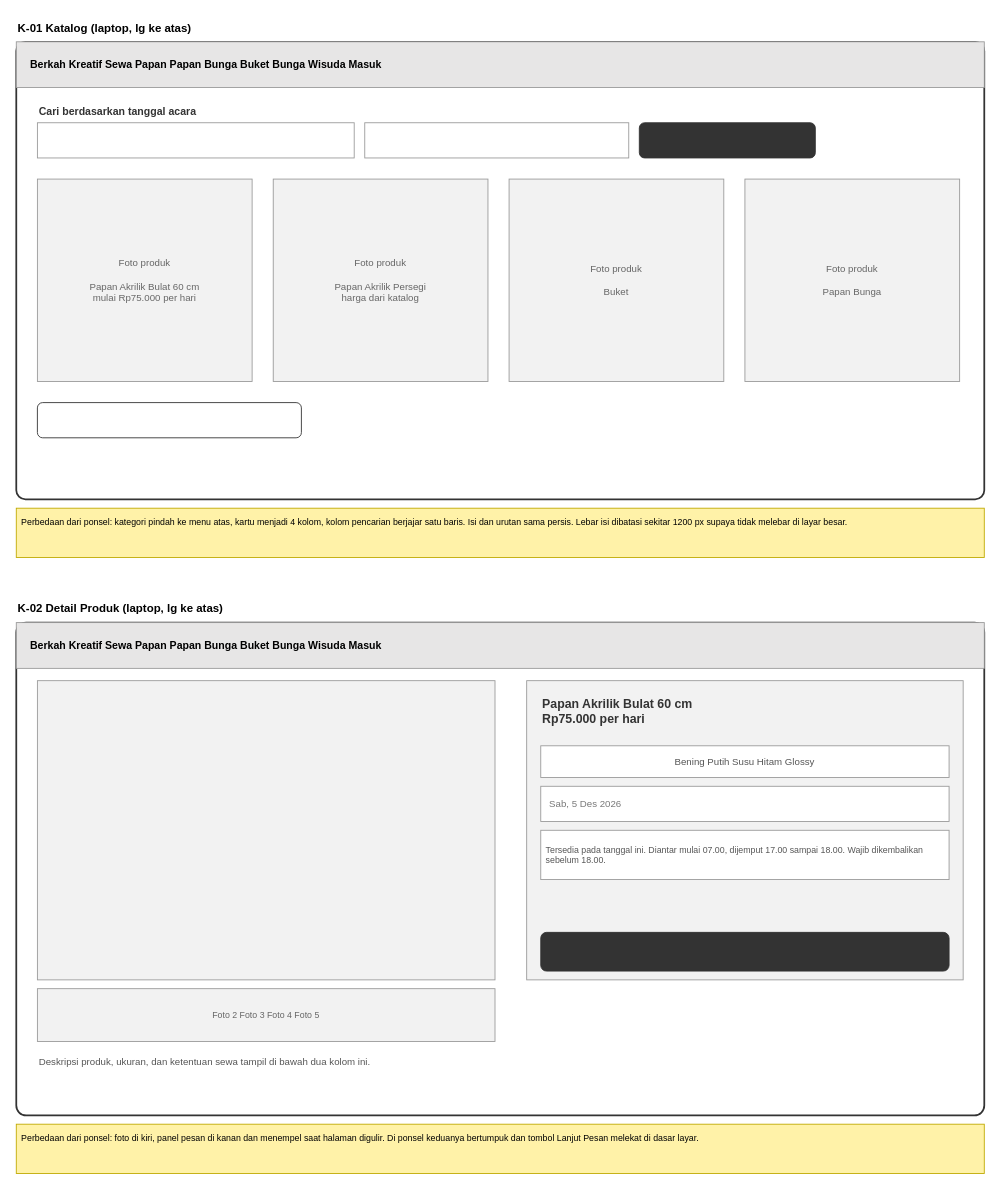
The diagram is 1000 pixels wide and 1189 high, and some of its shapes have lost their labels. The centre of each missing label's shape, as x and y in pixels:
Cek ketersediaan: point 726,140
Foto utama produk: point 266,830
Jenis: semua: point 496,140
Lanjut Pesan: point 744,951
Pilih tanggal acara: point 195,140
Tanya lewat WhatsApp: point 169,420
